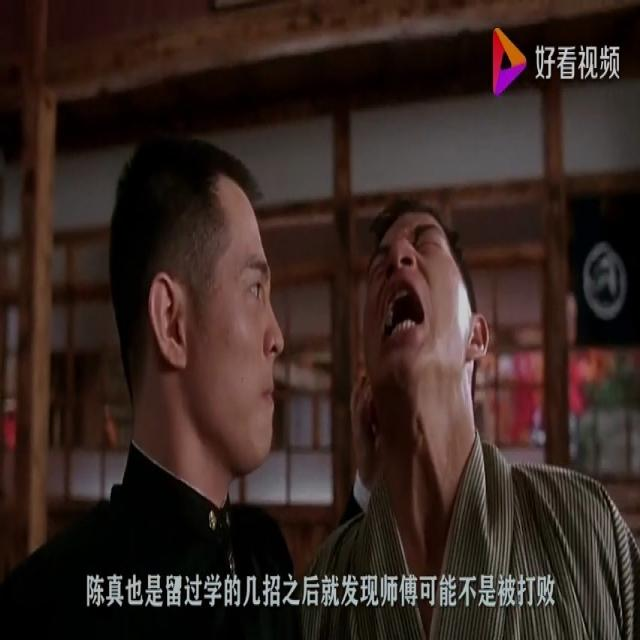non-fight: (0, 129, 300, 639), (300, 195, 639, 635)
